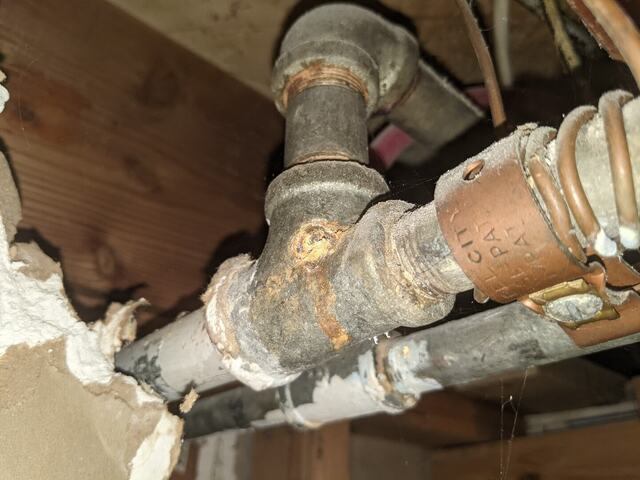Low: (267, 214, 353, 355), (273, 58, 373, 95)
